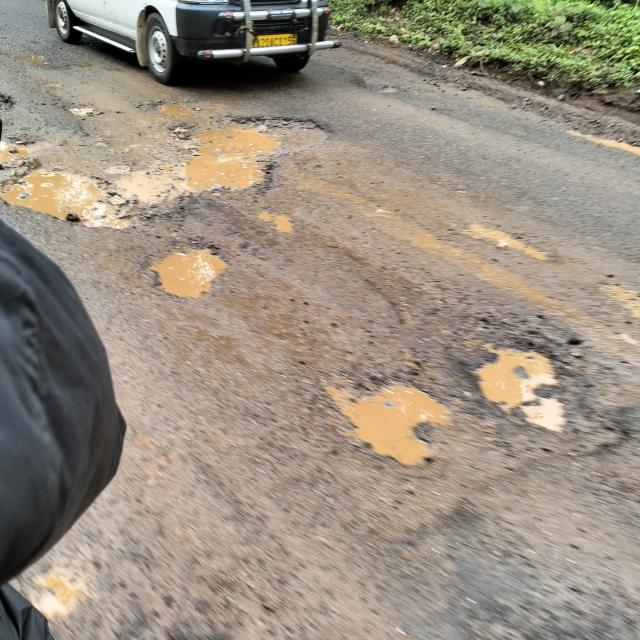pothole: (2, 92, 330, 220), (474, 312, 632, 472), (312, 362, 458, 483), (128, 236, 243, 303), (452, 212, 552, 274), (595, 274, 640, 380), (248, 204, 310, 240)
